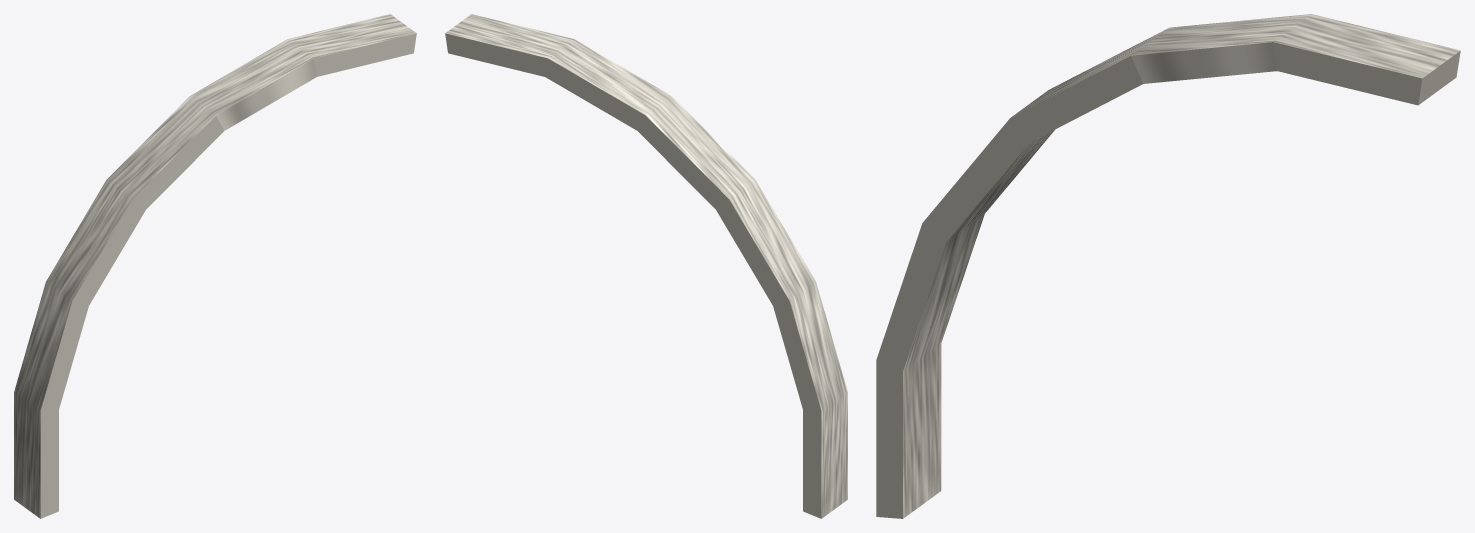
Rendered from f_taihouring6.fbx.
3 renders of one model, left to right at view 1: azimuth 30°, elevation 25°; view 2: azimuth 150°, elevation 25°; view 3: azimuth 330°, elevation 25°, orthographic. The views are drawn at different scales.
Parts seen in each view (by area): view 1: f_taihou_ring2; view 2: f_taihou_ring2; view 3: f_taihou_ring2.
Part boxes in pixels (x1,y1,x2,y2): f_taihou_ring2: (14,14,416,518); f_taihou_ring2: (445,14,847,518); f_taihou_ring2: (876,14,1460,518).
Size of the model in its own units: 153 by 153 by 18.56.
1 material, 1 textured.
